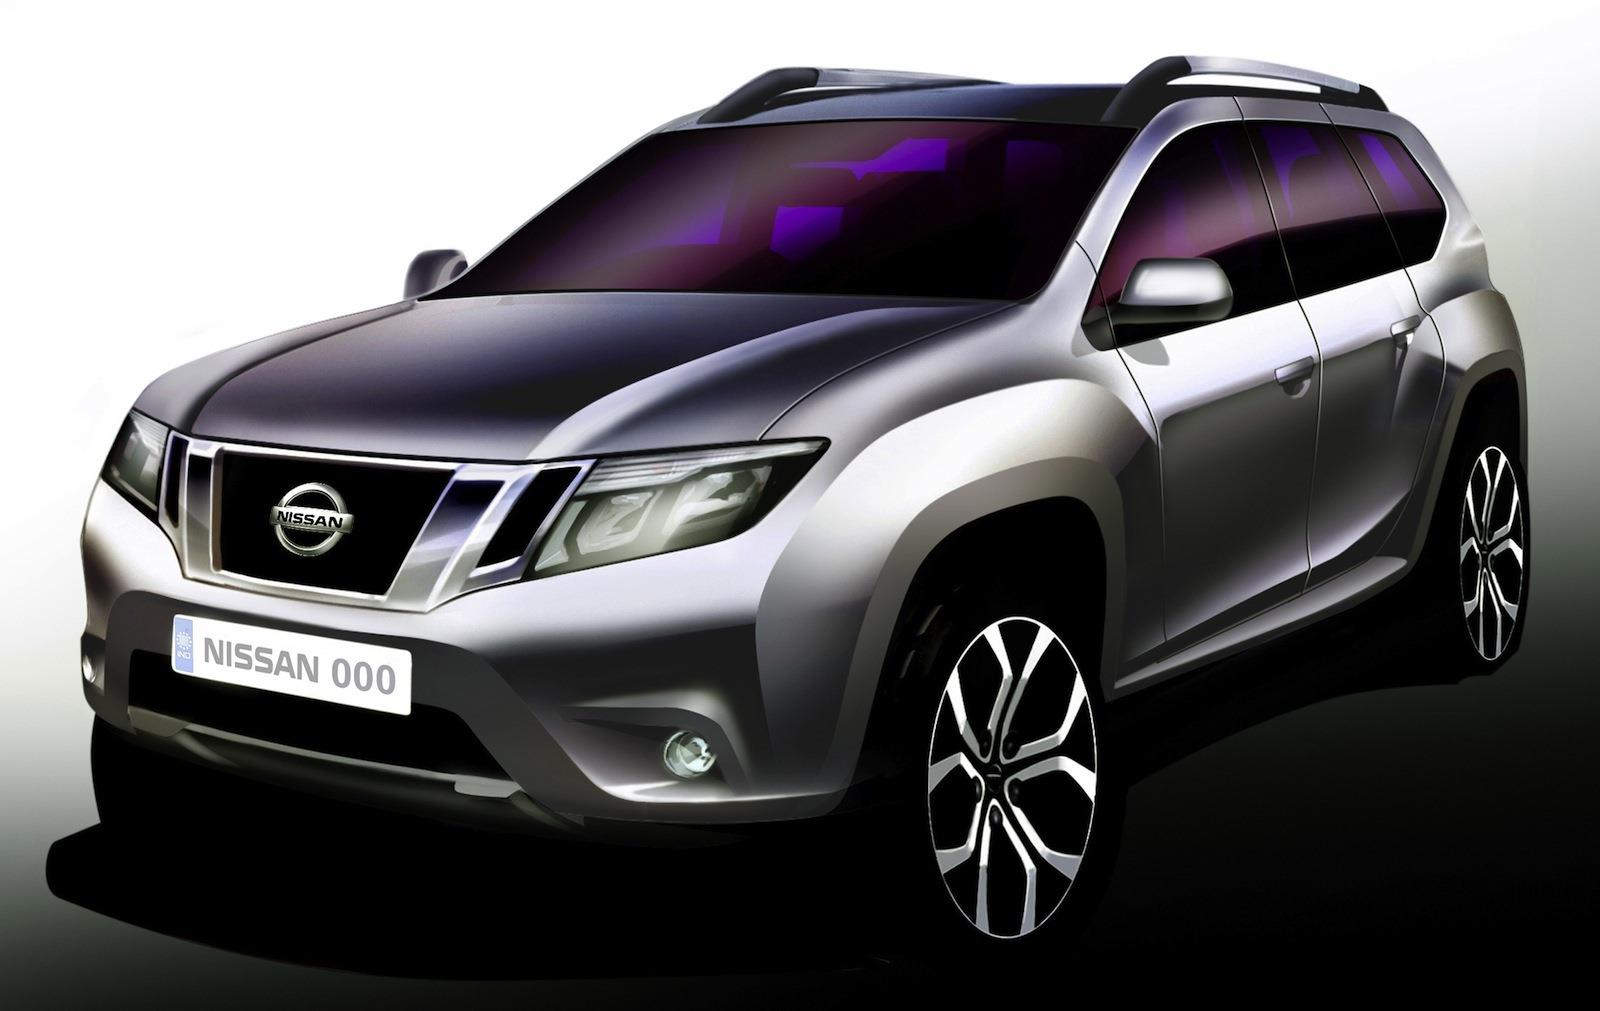licence-plate: (174, 617, 409, 716)
